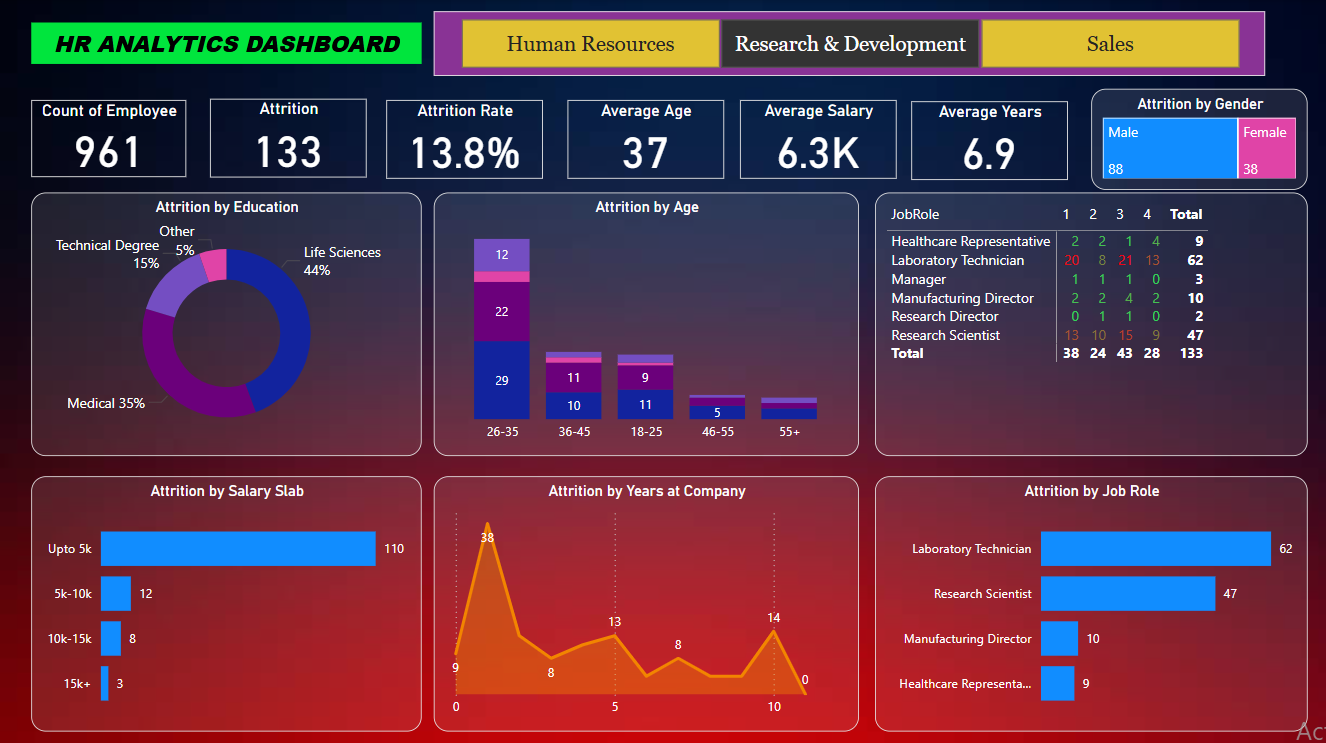

This screenshot's page, from the dashboard's own definition file:
{"tool":"powerbi","page":{"name":"Page 1","canvas":[1280,720],"ordinal":0},"visuals":[{"type":"card","title":"Count of Employee","fields":{"Values":["CountNonNull(HR_Analytics.EmpID)"]},"box":[30.2,96.5,149.6,74.8],"z":0},{"type":"card","title":"Attrition","fields":{"Values":["HR_Analytics.Count of AttritionCount running total in AttritionCount","Sum(HR_Analytics.AttritionCount)"]},"box":[202.7,95.3,150.8,76],"z":1000},{"type":"card","title":"Attrition Rate","fields":{"Values":["HR_Analytics.AttritionRate"]},"box":[372.8,96.5,150.8,76],"z":2000},{"type":"card","title":"Average Age","fields":{"Values":["Avg(HR_Analytics.Age)"]},"box":[547.7,96.5,150.8,76],"z":3000},{"type":"card","title":"Average Salary","fields":{"Values":["Avg(HR_Analytics.MonthlyIncome)"]},"box":[714.2,96.5,150.8,76],"z":4000},{"type":"card","title":"Average Years","fields":{"Values":["Avg(HR_Analytics.YearsAtCompany)"]},"box":[879.5,97.7,150.8,76],"z":5000},{"type":"donutChart","title":"Attrition by Education","fields":{"Y":["Sum(HR_Analytics.AttritionCount)"],"Category":["HR_Analytics.EducationField"],"Series":["HR_Analytics.EducationField"]},"box":[30.2,185.8,376.4,254.6],"z":6000},{"type":"columnChart","title":"Attrition by Age","fields":{"Category":["HR_Analytics.AgeGroup"],"Y":["Sum(HR_Analytics.AttritionCount)"],"Series":["HR_Analytics.EducationField"]},"box":[418.6,185.8,410.2,254.6],"z":7000},{"type":"pivotTable","fields":{"Rows":["HR_Analytics.JobRole"],"Columns":["HR_Analytics.JobSatisfaction"],"Values":["Sum(HR_Analytics.AttritionCount)"]},"box":[844.5,185.8,417.4,254.6],"z":8000},{"type":"barChart","title":"Attrition by Salary Slab","fields":{"Category":["HR_Analytics.SalarySlab"],"Y":["Sum(HR_Analytics.AttritionCount)"]},"box":[30.2,459.7,376.4,246.1],"z":9000},{"type":"barChart","title":"Attrition by Job Role","fields":{"Category":["HR_Analytics.JobRole"],"Y":["Sum(HR_Analytics.AttritionCount)"]},"box":[844.5,459.7,417.4,246.1],"z":10000},{"type":"areaChart","title":"Attrition by Years at Company","fields":{"Category":["HR_Analytics.YearsAtCompany"],"Y":["Sum(HR_Analytics.AttritionCount)"]},"box":[418.6,459.7,410.2,246.1],"z":11000},{"type":"treemap","title":"Attrition by Gender","fields":{"Group":["HR_Analytics.Gender"],"Values":["Sum(HR_Analytics.AttritionCount)"]},"box":[1053.2,85.7,208.7,97.7],"z":12000},{"type":"slicer","fields":{"Values":["HR_Analytics.Department"]},"box":[418.6,10.9,802.3,62.7],"z":13000},{"type":"textbox","box":[30.2,21.7,376.4,39.8],"z":14000}]}

Visuals, with their boxes in screenshot pixels (x1, y1, x2, y2), scaled from the page's 1280x720 canvas onto the 1326x743 screenshot:
"Count of Employee" card: 31/100/186/177
"Attrition" card: 210/98/366/177
"Attrition Rate" card: 386/100/542/178
"Average Age" card: 567/100/724/178
"Average Salary" card: 740/100/896/178
"Average Years" card: 911/101/1067/179
"Attrition by Education" donutChart: 31/192/421/454
"Attrition by Age" columnChart: 434/192/859/454
pivotTable - HR_Analytics.JobRole x HR_Analytics.JobSatisfaction: 875/192/1307/454
"Attrition by Salary Slab" barChart: 31/474/421/728
"Attrition by Job Role" barChart: 875/474/1307/728
"Attrition by Years at Company" areaChart: 434/474/859/728
"Attrition by Gender" treemap: 1091/88/1307/189
slicer - HR_Analytics.Department: 434/11/1265/76
textbox: 31/22/421/63
